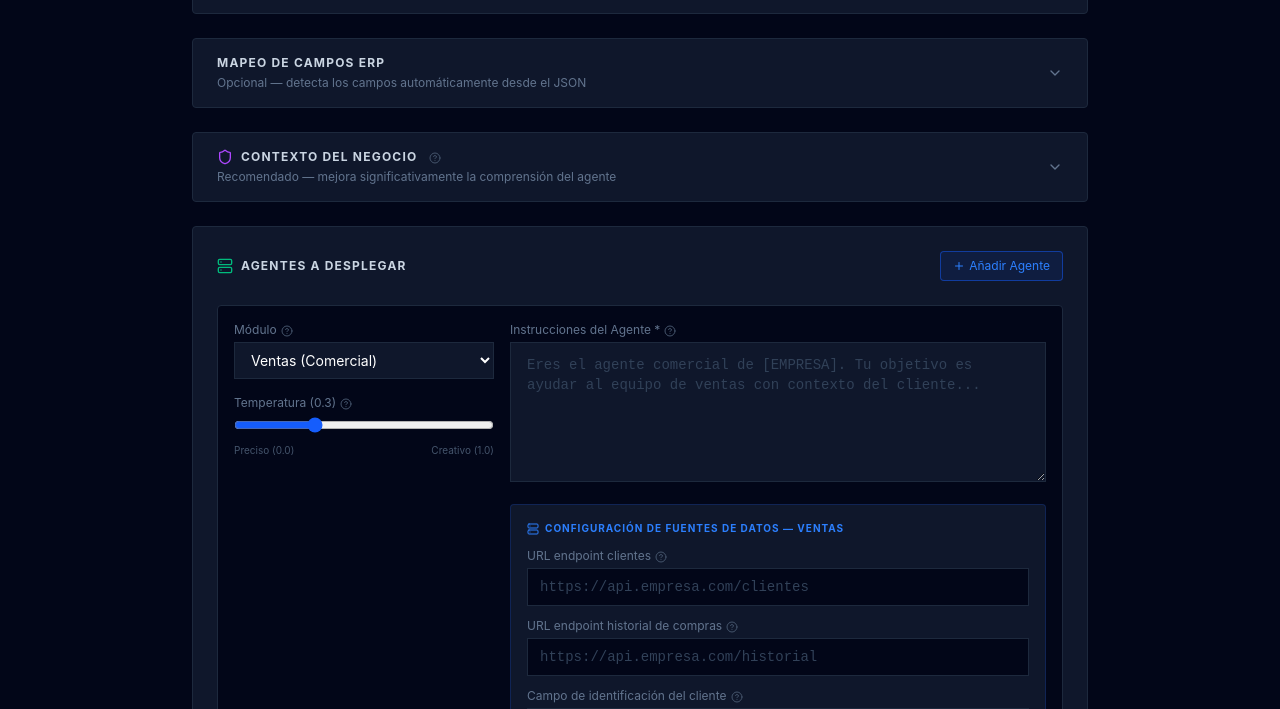
RegisterB2B › cambiar template a "analitica" muestra placeholder de analista
This screenshot has width=1280, height=709.
(page scrolled)
Select "Analítica (Datos)" in the dropdown at (364, 360), box [234,342,494,379]
(page scrolled)
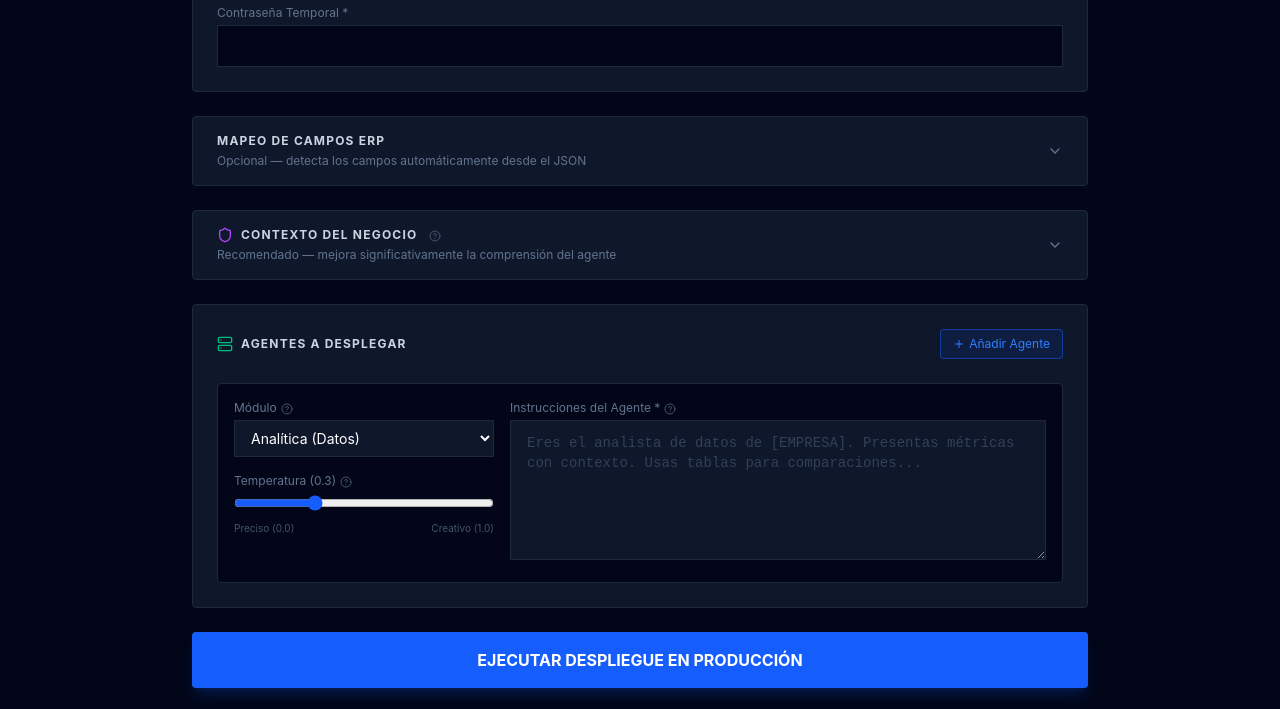
Expected: the text box with placeholder "analista" is shown, [510,420,1046,560]
